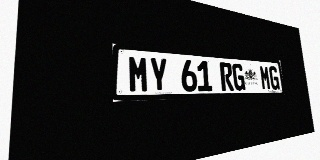1: (196, 60, 212, 91)
6: (180, 59, 198, 92)
G: (232, 63, 246, 91), (268, 66, 280, 90)
M: (128, 55, 149, 93), (259, 65, 271, 90)
R: (219, 62, 234, 91)
Y: (149, 57, 169, 92)
